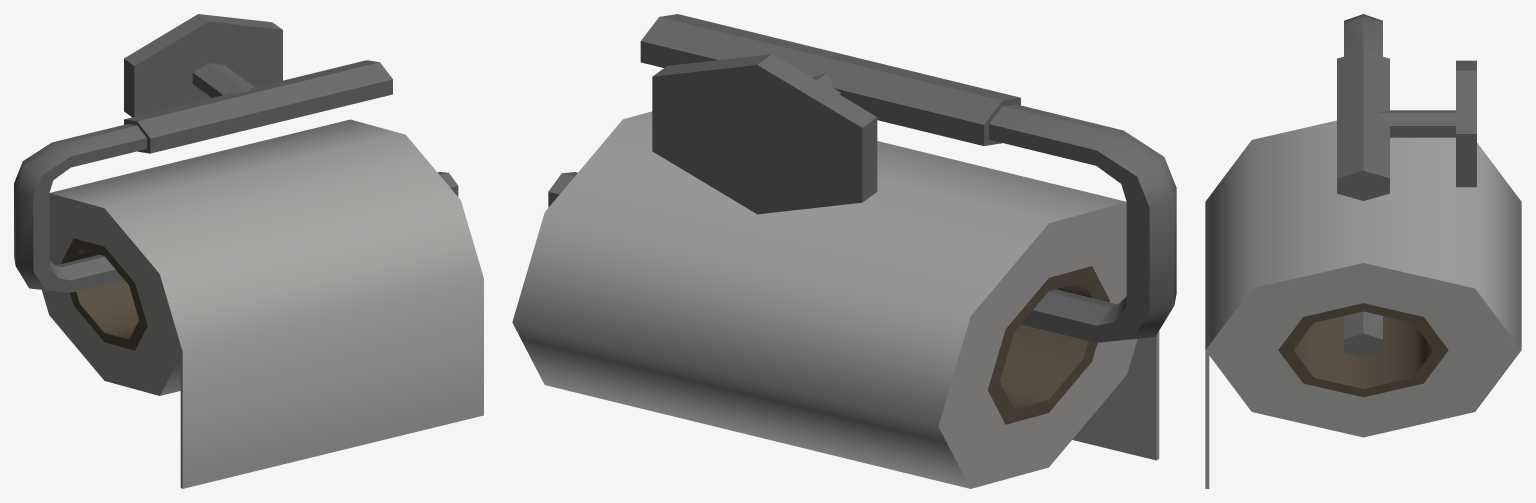
The model's file is sanitary-toilet-paper-holder.glb.
3 renders of one model, left to right at view 1: azimuth 30°, elevation 25°; view 2: azimuth 150°, elevation 25°; view 3: azimuth 270°, elevation 25°, orthographic. The views are drawn at different scales.
Visible parts, largest first — view 1: Bathroom_ToiletPaper; view 2: Bathroom_ToiletPaper; view 3: Bathroom_ToiletPaper.
Boxes of the visible parts, <box> form: Bathroom_ToiletPaper: <box>14,14,483,488</box>; Bathroom_ToiletPaper: <box>512,14,1176,488</box>; Bathroom_ToiletPaper: <box>1205,14,1521,488</box>.
Bounding box in the file's own units: 0.16 × 0.12 × 0.1.
